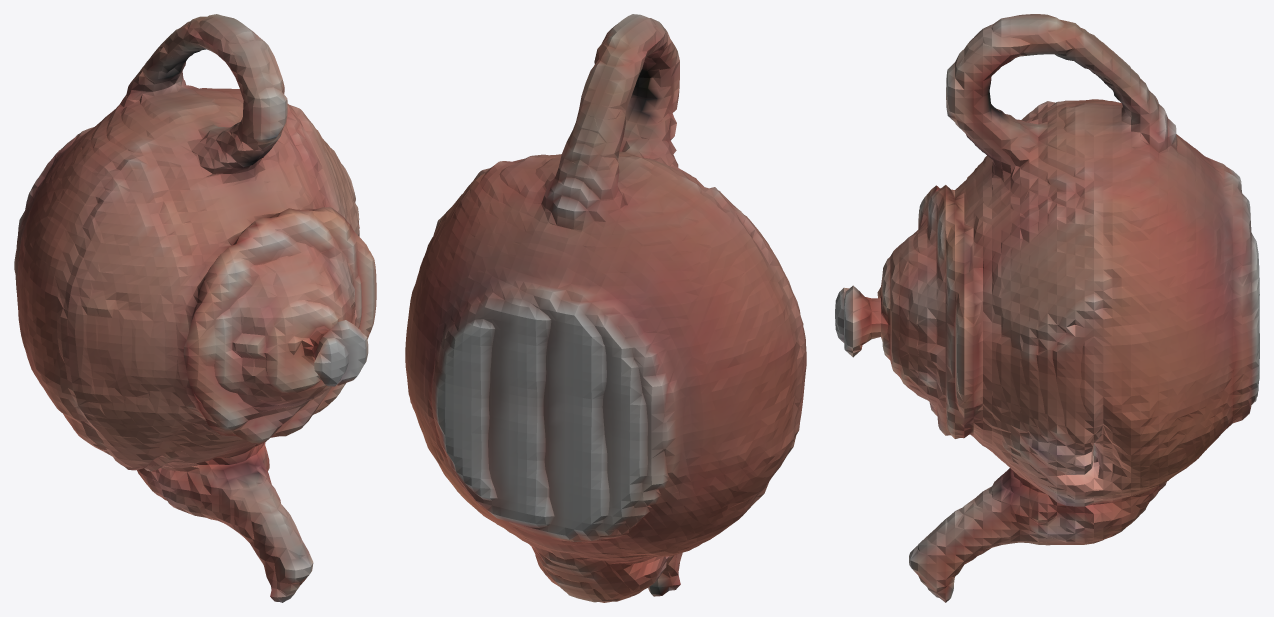
The model's file is source.glb.
3 views of the same model, side by side, from view 1: azimuth 30°, elevation 25°; view 2: azimuth 150°, elevation 25°; view 3: azimuth 270°, elevation 25° (orthographic). The views are drawn at different scales.
Parts seen in each view (by area): view 1: generated-source; view 2: generated-source; view 3: generated-source.
Part boxes in pixels (box(x1,y1,x2,y2)): generated-source: box(14, 14, 376, 602); generated-source: box(405, 14, 806, 602); generated-source: box(835, 14, 1259, 602).
Size of the model in its own units: 0.0601 by 0.1 by 0.0669.
